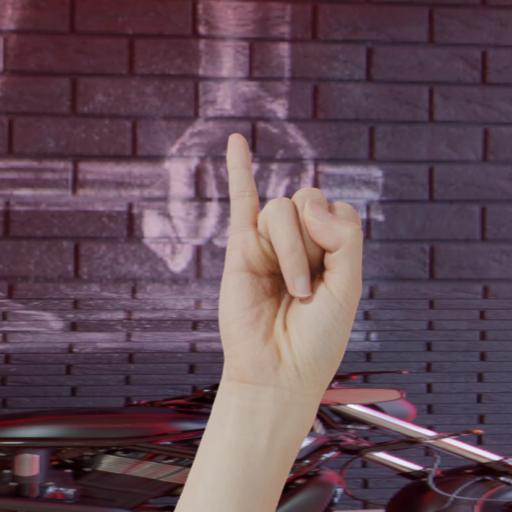I: (181, 109, 385, 512)
